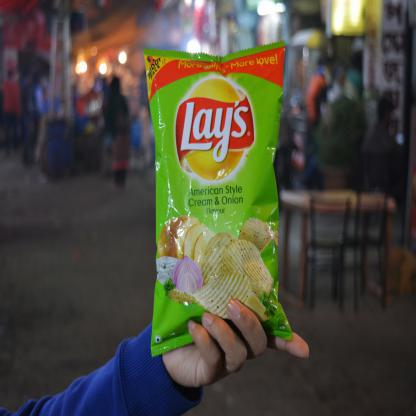cream_and_onion: (137, 38, 289, 357)
